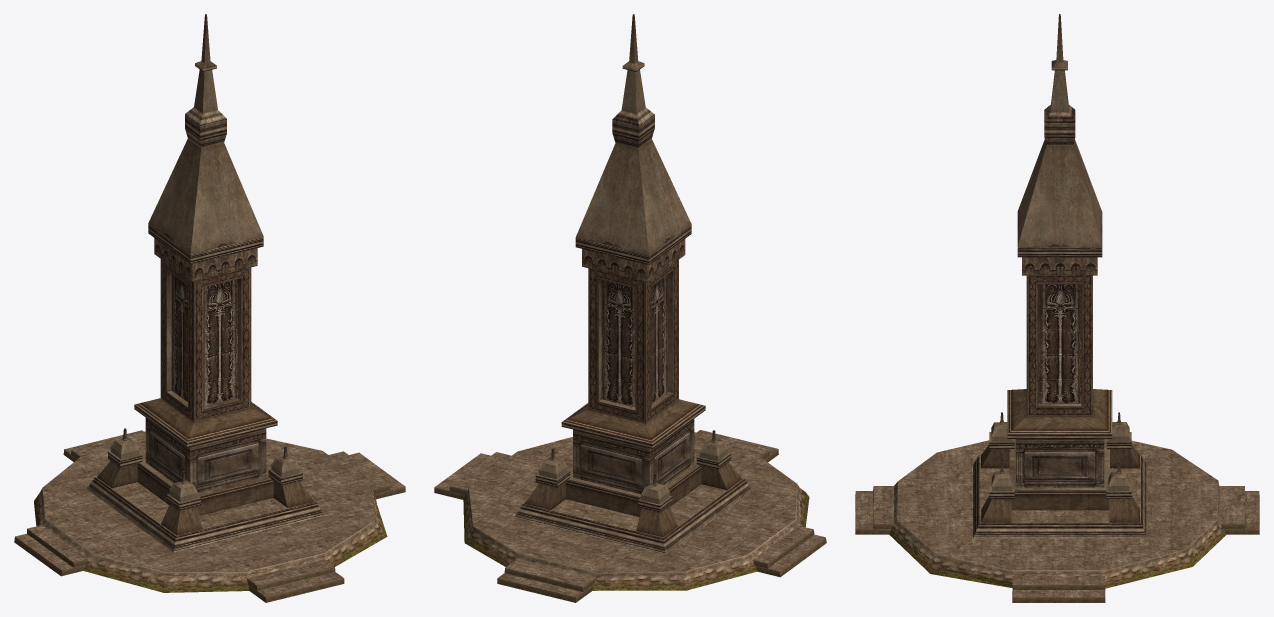
File: ti_centertop.glb
3 renders of one model, left to right at view 1: azimuth 30°, elevation 25°; view 2: azimuth 150°, elevation 25°; view 3: azimuth 270°, elevation 25°, orthographic.
Parts seen in each view (by area): view 1: TI_Center_Top; view 2: TI_Center_Top; view 3: TI_Center_Top.
Part boxes in pixels (x1,y1,x2,y2): TI_Center_Top: [14, 14, 405, 602]; TI_Center_Top: [434, 14, 826, 602]; TI_Center_Top: [855, 14, 1259, 602].
Size of the model in its own units: 4.75 by 6.62 by 4.82.
10 materials, 10 textured.
